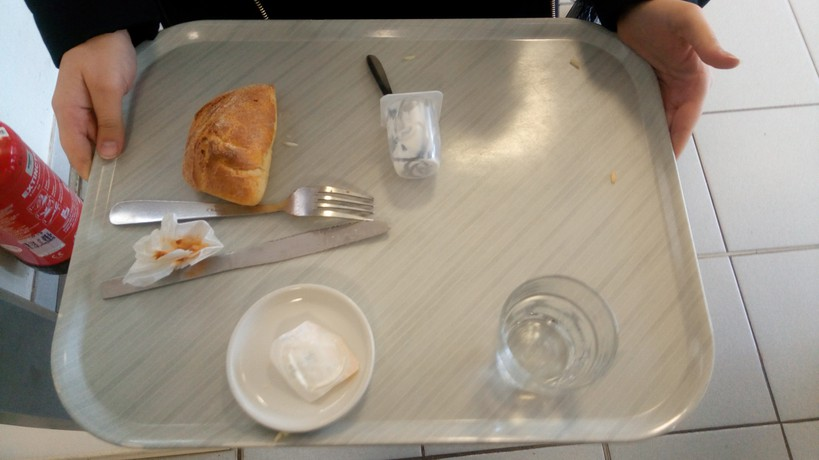cup: (480, 268, 630, 413)
cutlery: (109, 215, 383, 300), (105, 189, 381, 231), (360, 51, 397, 101)
orga: (181, 89, 290, 204)
trash: (269, 320, 364, 401), (374, 89, 453, 186), (120, 224, 227, 286)
